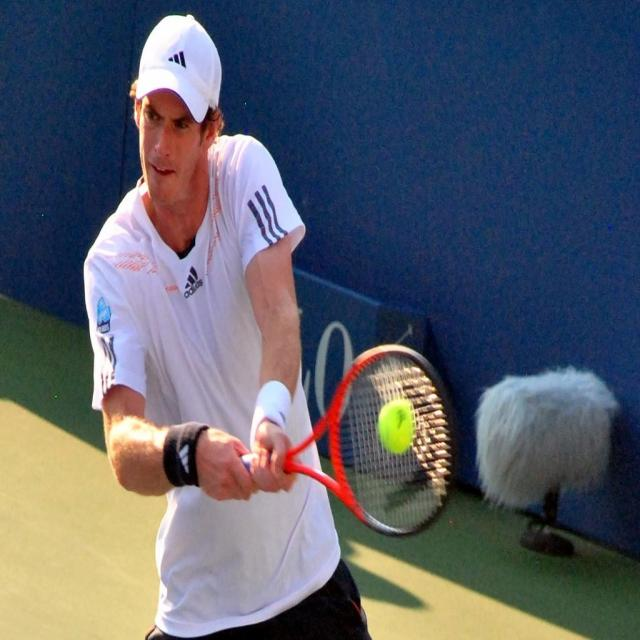Tennis ball: (378, 398, 413, 455)
